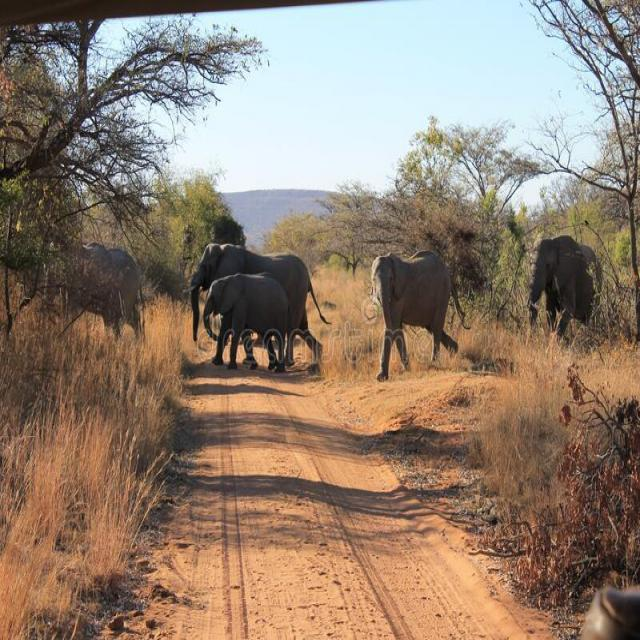Elephant: (185, 220, 326, 361), (352, 224, 468, 387), (201, 270, 300, 384), (521, 228, 610, 342)
